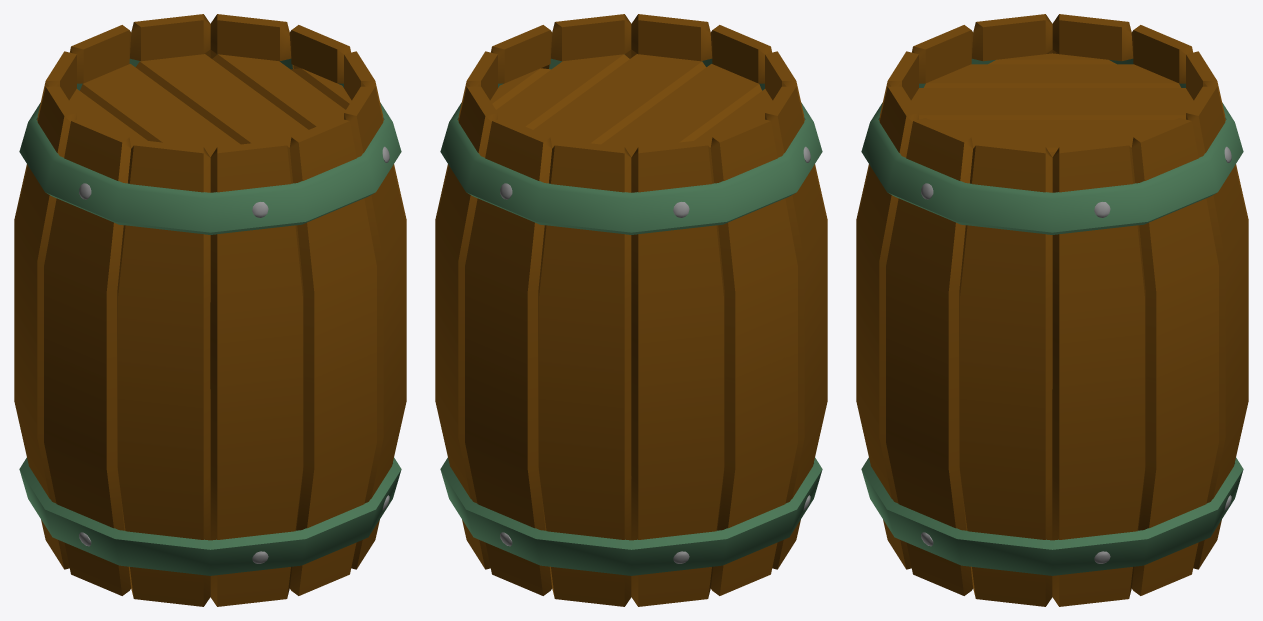
File: bochka.fbx
3 renders of one model, left to right at view 1: azimuth 30°, elevation 25°; view 2: azimuth 150°, elevation 25°; view 3: azimuth 270°, elevation 25°, orthographic.
Parts seen in each view (by area): view 1: Cylinder; view 2: Cylinder; view 3: Cylinder.
Part boxes in pixels (x1,y1,x2,y2): Cylinder: (14,14,406,606); Cylinder: (435,14,827,606); Cylinder: (856,14,1248,606).
Bounding box in the file's own units: 236 × 300 × 236.
